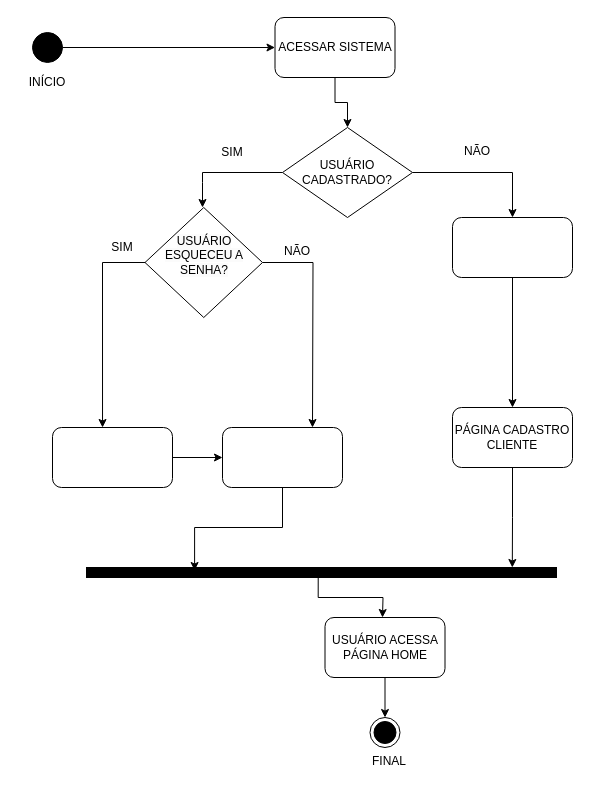
This 590x786 diagram has some shape labels left out. Here are the shapes that lost their labels. From the top down, the box of each, then its label:
(452, 216, 572, 278): CRIAR CONTA
(52, 426, 172, 488): RECUPERAR SENHA
(222, 426, 342, 488): ENTRAR
